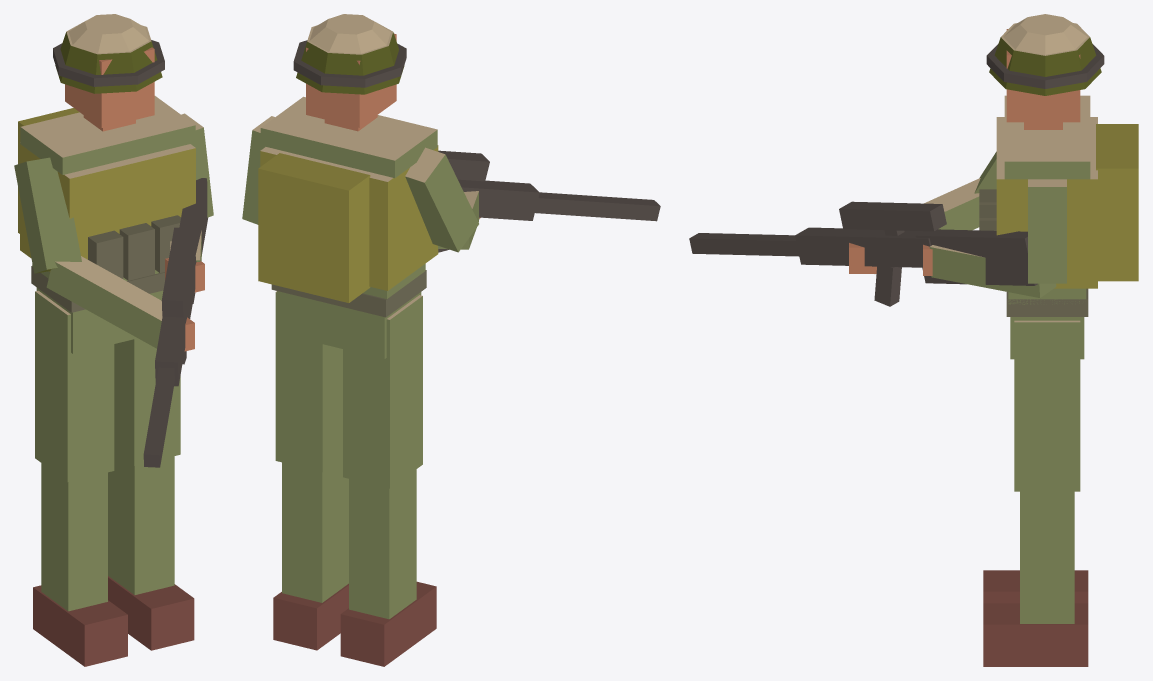
The model's file is SM_SoldadoArmado_v4_G28_Reposo_LOD1.fbx.
3 renders of one model, left to right at view 1: azimuth 30°, elevation 25°; view 2: azimuth 150°, elevation 25°; view 3: azimuth 270°, elevation 25°, orthographic.
Parts seen in each view (by area): view 1: SM_bloques.soldado_armado_v4_LOD1; view 2: SM_bloques.soldado_armado_v4_LOD1; view 3: SM_bloques.soldado_armado_v4_LOD1.
Part boxes in pixels (bbox=[...]): SM_bloques.soldado_armado_v4_LOD1: bbox=[14, 14, 213, 666]; SM_bloques.soldado_armado_v4_LOD1: bbox=[242, 14, 660, 666]; SM_bloques.soldado_armado_v4_LOD1: bbox=[689, 14, 1138, 666].
Bounding box in the file's own units: 0.6996 × 1.75 × 1.16.
